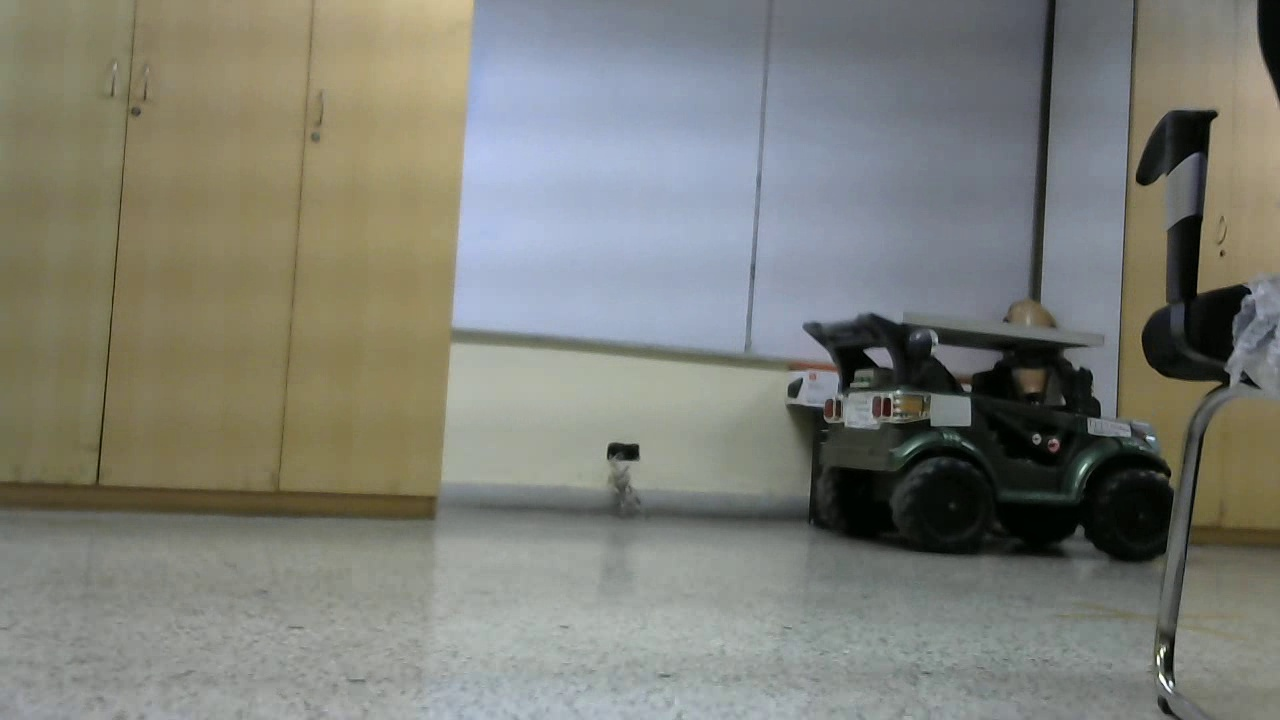chair: (546, 70, 822, 617)
